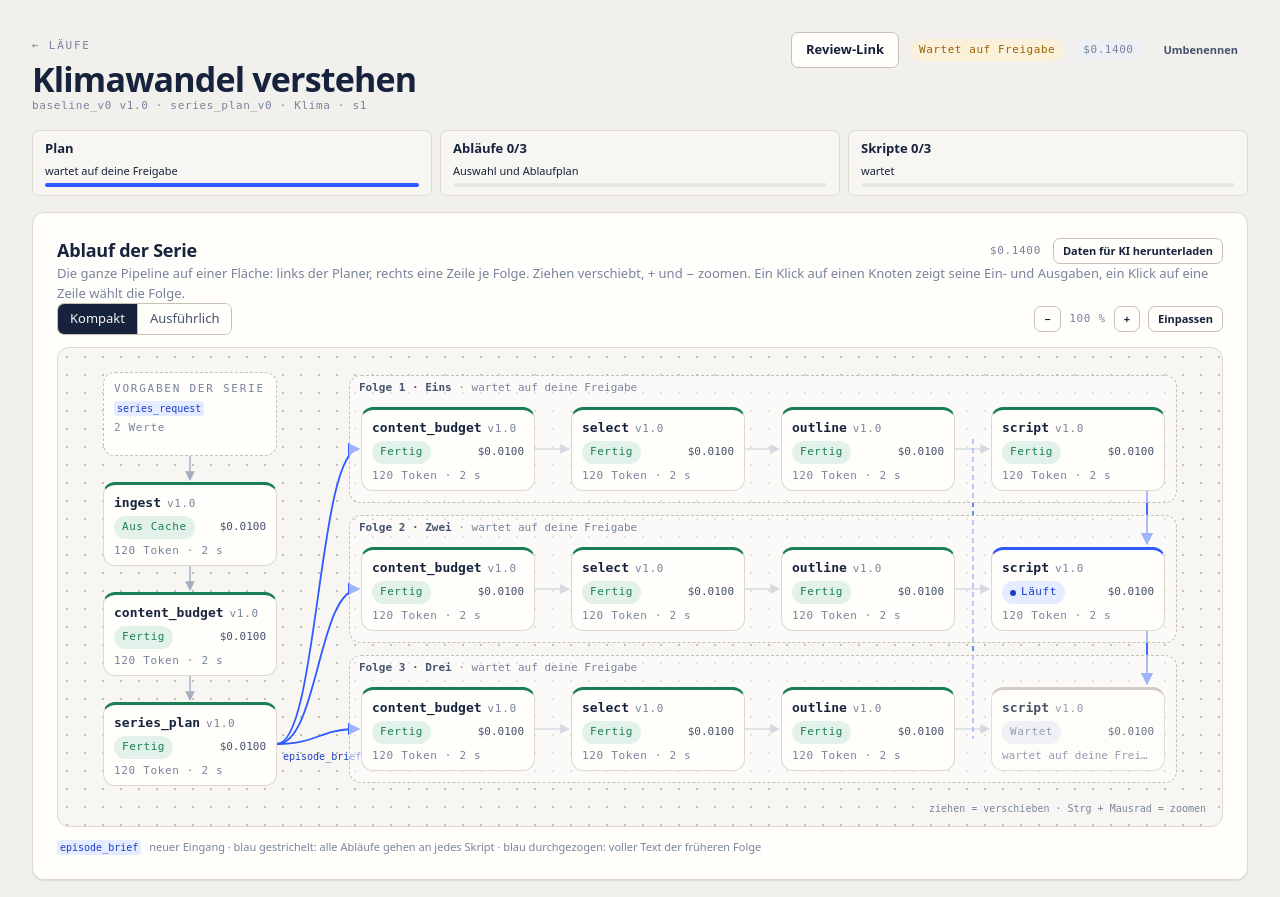
Test case: series view › renames the series from its page
This screenshot has width=1280, height=897.
Click the button "Umbenennen": point(1201, 50) [1154,36,1248,63]
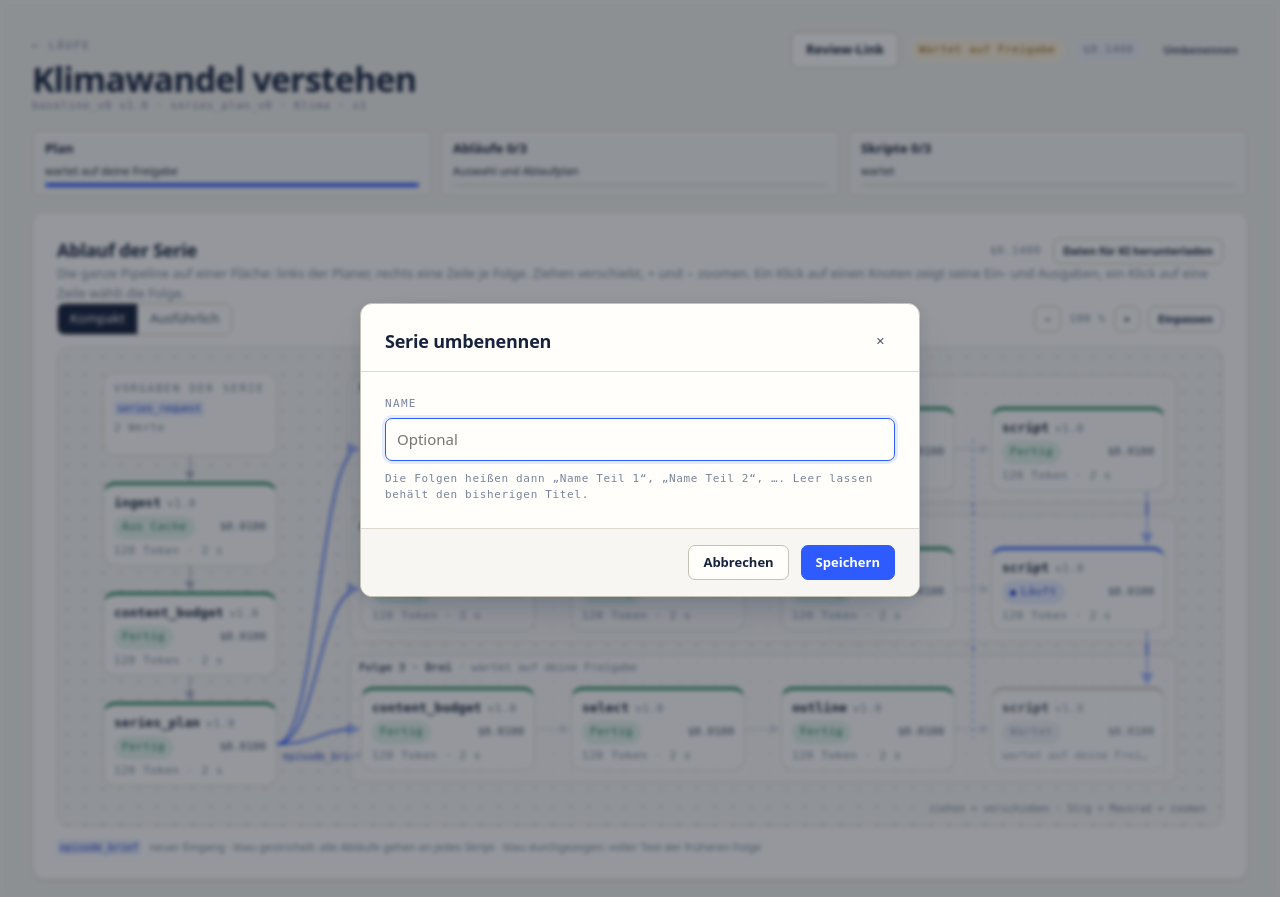
Expected: the text "Serie umbenennen" is shown, [385,328,551,355]
In the field labelled "Name": point(640, 440) [385,418,895,461], type "Klimaserie"
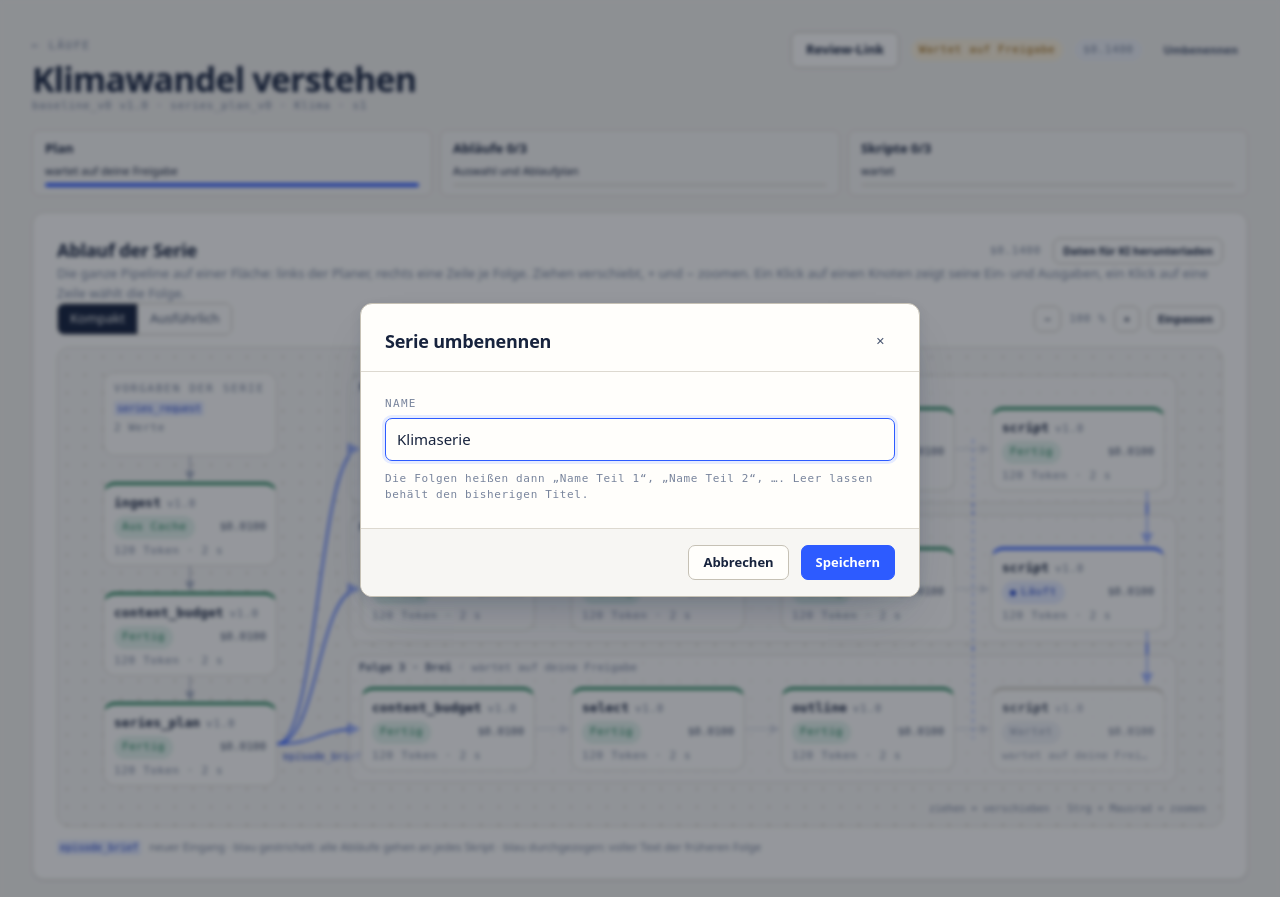
Click the button "Speichern": point(848, 563) [801,545,895,580]
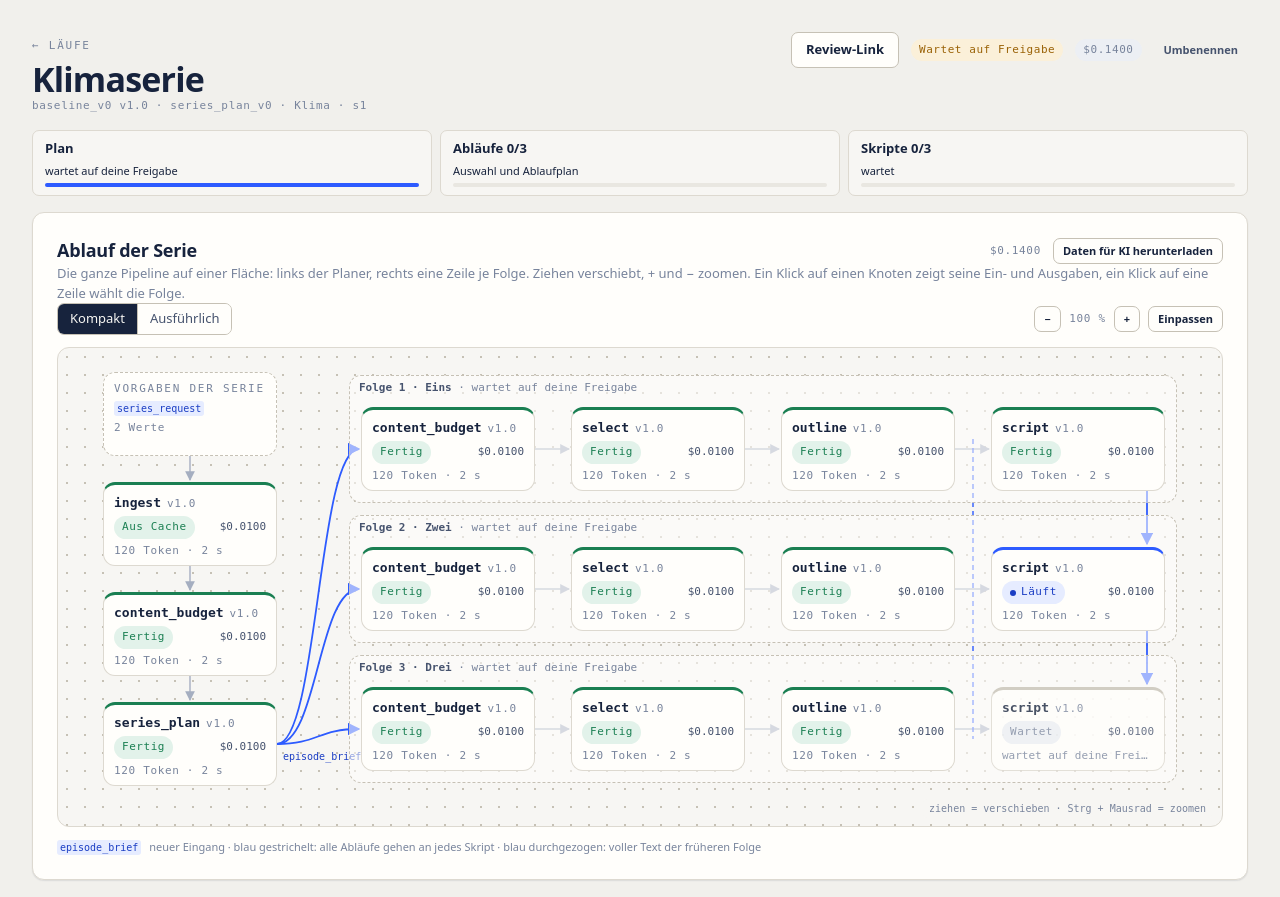
Expected: the heading "Klimaserie" is shown, [32,56,204,102]
